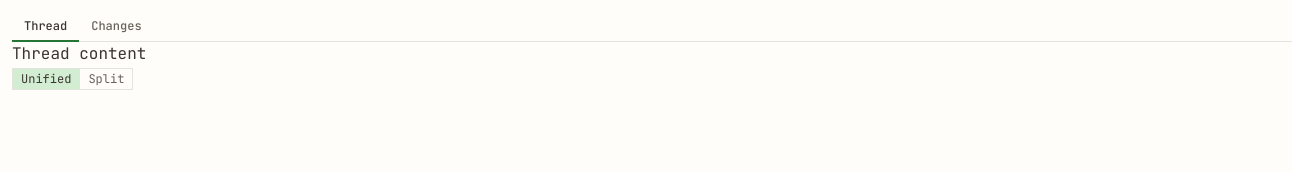
Tabs and Segmented › switches tabs and shows only the active panel
The width and height of the screenshot is (1292, 172).
Expected: the text "Thread content" is shown, [12,43,146,64]
Expected: the text "Changes content" is not shown
Click the tab "Changes".
click(116, 27)  # box [79,12,154,42]
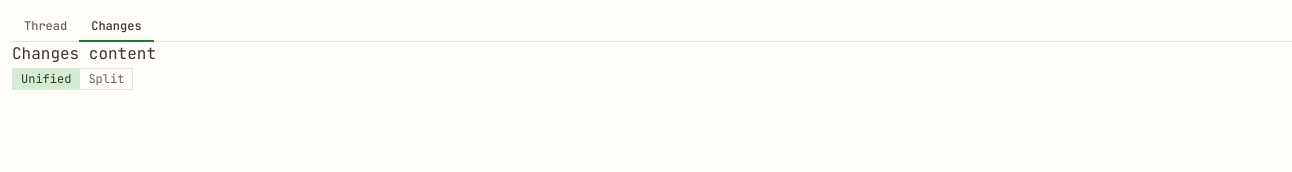
Expected: the text "Changes content" is shown, [12,43,156,64]
Expected: the text "Thread content" is gone
